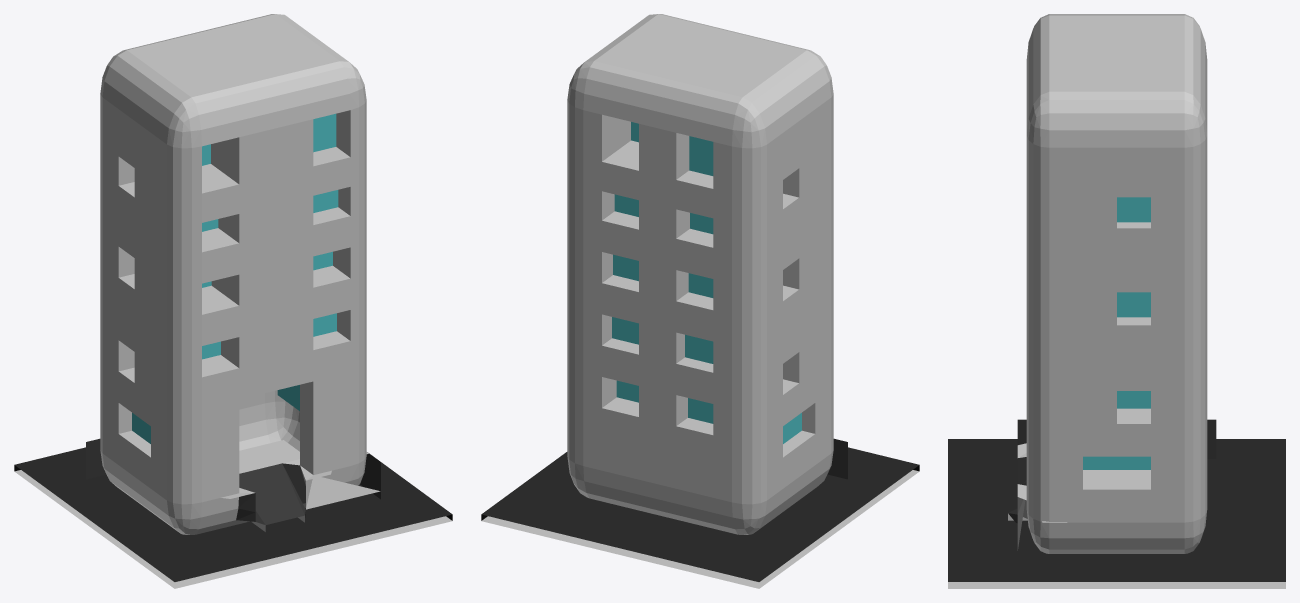
Rendered from mainbuilding.obj.
3 renders of one model, left to right at view 1: azimuth 30°, elevation 25°; view 2: azimuth 150°, elevation 25°; view 3: azimuth 270°, elevation 25°, orthographic. The views are drawn at different scales.
Parts seen in each view (by area): view 1: Cube; view 2: Cube; view 3: Cube.
Boxes of the visible parts, x1,y1,x2,y2 form: Cube: [14, 14, 452, 588]; Cube: [481, 14, 919, 588]; Cube: [948, 14, 1285, 588].
Size of the model in its own units: 11.48 by 17.39 by 11.48.
